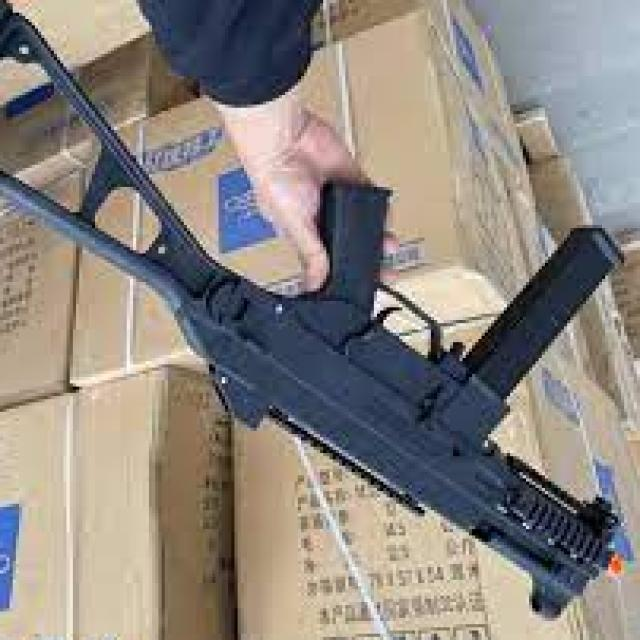Gun: (0, 3, 640, 621)
